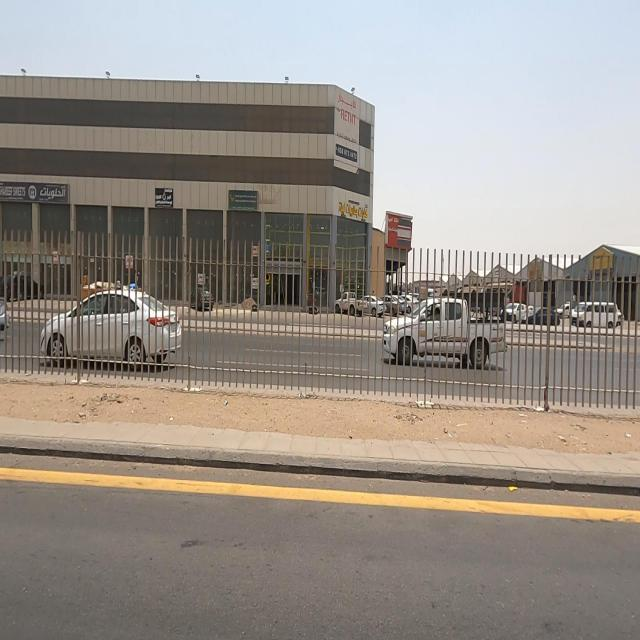debris: (503, 362, 569, 458), (397, 370, 455, 446), (70, 365, 138, 429), (486, 459, 540, 524), (198, 374, 250, 426)
